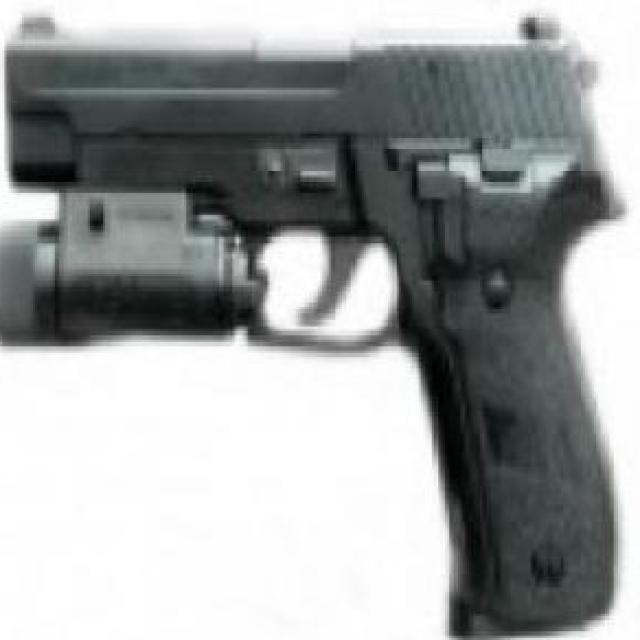pistol: (2, 13, 627, 632)
